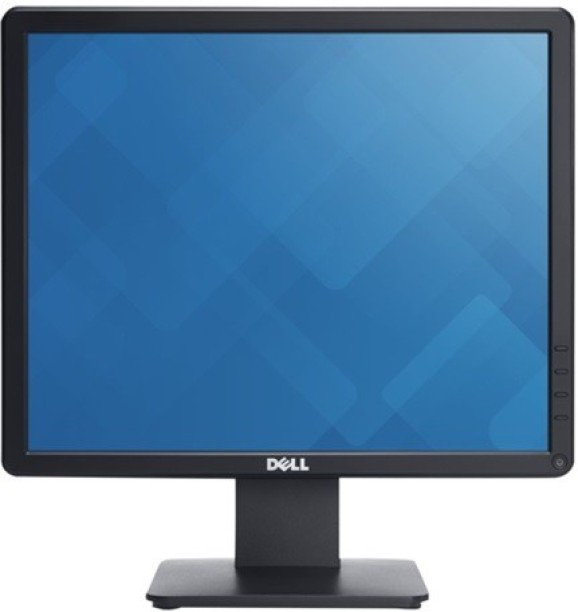dell-monitor-D1918H: (1, 7, 573, 601)
